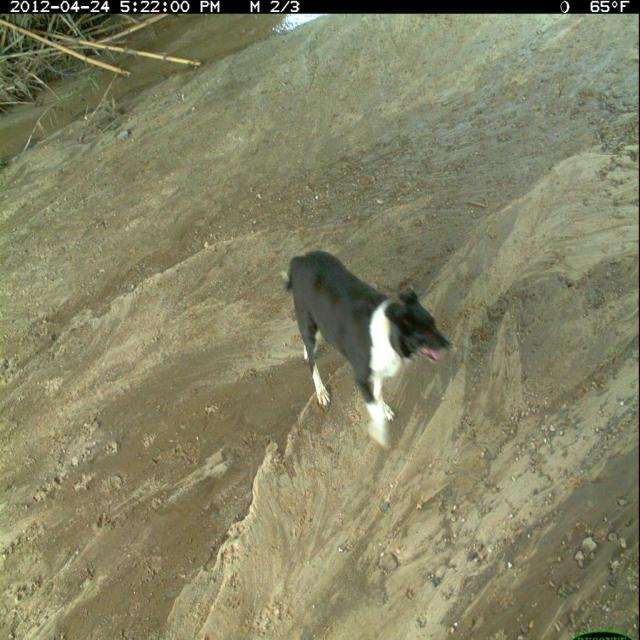dog: (282, 248, 457, 453)
